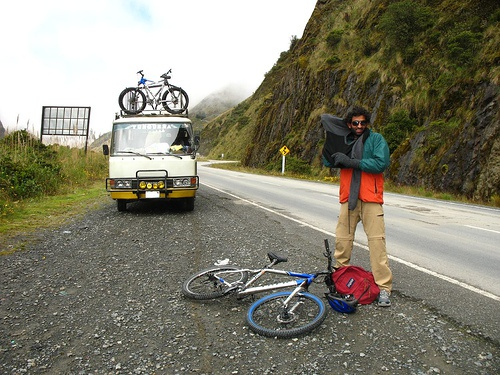non-vehicle: (182, 238, 337, 339), (118, 68, 188, 115)
